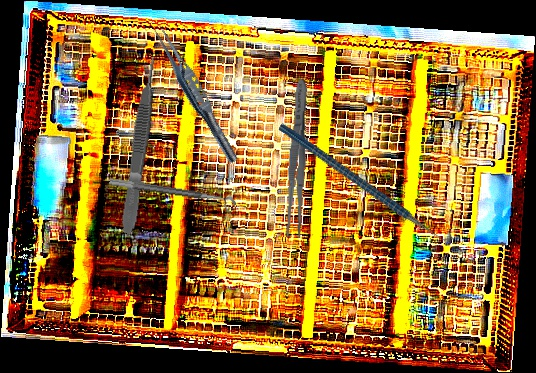Chopper: (276, 77, 464, 290)
Dressing Forceps: (283, 78, 312, 239)
Fixation Ring: (107, 177, 237, 216)
Tissue Forceps: (146, 20, 245, 167), (117, 57, 164, 235)
